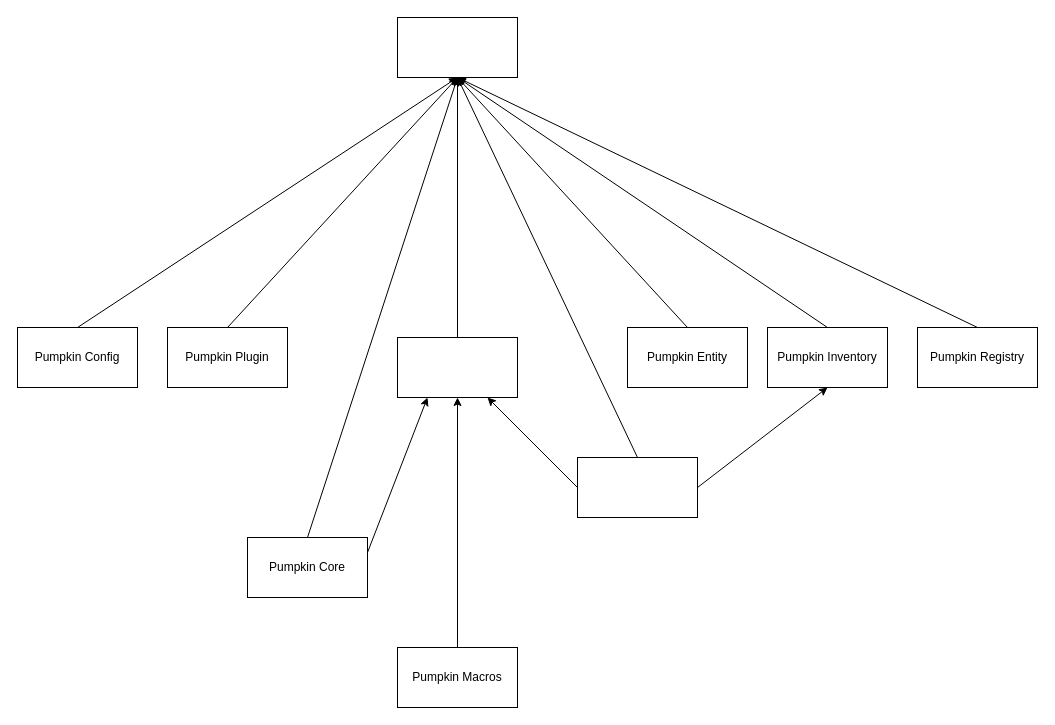
Image size: 1055x725. Some labels were removed from this diagram. The box of each missing label's shape, as (x1, y1, x2, y2) in pixels:
Pumpkin: (396, 16, 518, 78)
Pumpkin Protocol: (396, 336, 518, 398)
Pumpkin World: (576, 456, 698, 518)
